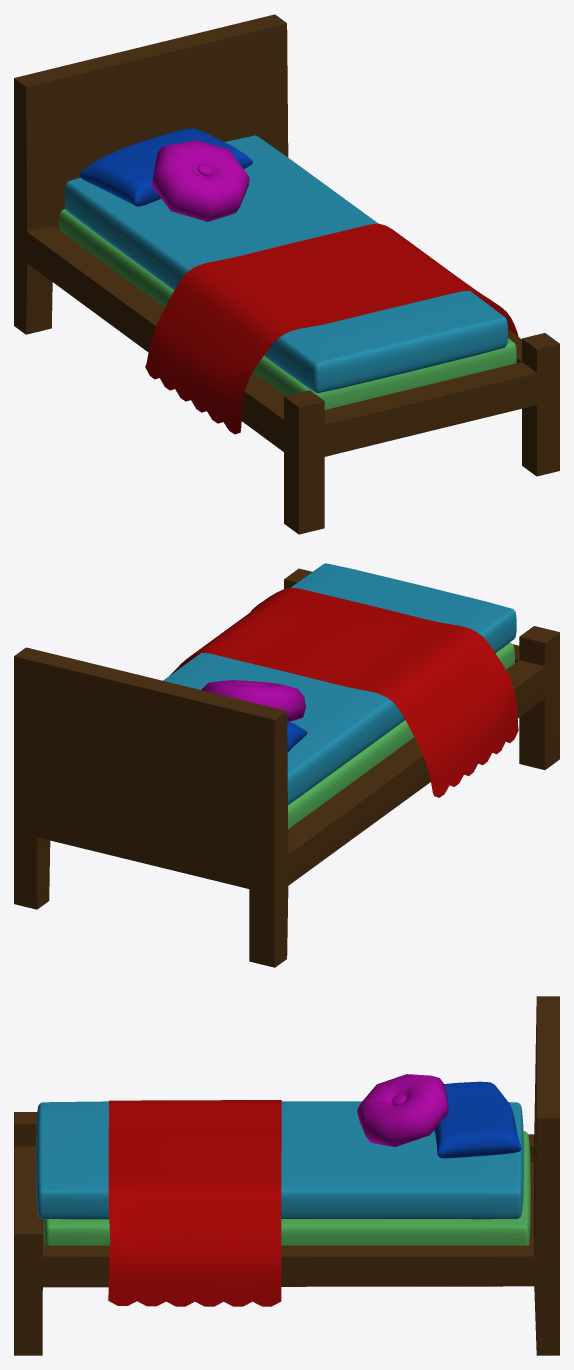
The model's file is PROP_CamaSolteiro_1.fbx.
The picture shows the model from 3 angles, top to bottom: view 1: azimuth 30°, elevation 25°; view 2: azimuth 150°, elevation 25°; view 3: azimuth 270°, elevation 25°; orthographic projection. The views are drawn at different scales.
Parts seen in each view (by area): view 1: Cama, ColchaoTopo, Lencol, ColchaoBaixo, AlmofadaRedonda, Travesseiro; view 2: Cama, Lencol, ColchaoTopo, ColchaoBaixo, AlmofadaRedonda; view 3: Lencol, ColchaoTopo, Cama, ColchaoBaixo, Travesseiro, AlmofadaRedonda.
Boxes of the visible parts, x1=… form: Cama: x1=14, y1=14, x2=559, y2=534; ColchaoTopo: x1=64, y1=135, x2=507, y2=393; Lencol: x1=145, y1=223, x2=518, y2=434; ColchaoBaixo: x1=59, y1=209, x2=516, y2=409; AlmofadaRedonda: x1=152, y1=140, x2=249, y2=221; Travesseiro: x1=78, y1=128, x2=252, y2=206; Cama: x1=14, y1=568, x2=559, y2=967; Lencol: x1=169, y1=587, x2=518, y2=797; ColchaoTopo: x1=163, y1=563, x2=516, y2=804; ColchaoBaixo: x1=288, y1=642, x2=514, y2=829; AlmofadaRedonda: x1=201, y1=680, x2=305, y2=721; Lencol: x1=108, y1=1100, x2=281, y2=1306; ColchaoTopo: x1=36, y1=1101, x2=523, y2=1219; Cama: x1=14, y1=996, x2=559, y2=1355; ColchaoBaixo: x1=43, y1=1131, x2=530, y2=1245; Travesseiro: x1=434, y1=1081, x2=521, y2=1158; AlmofadaRedonda: x1=357, y1=1074, x2=448, y2=1146.
Bounding box in the file's own units: 11.97 × 9.8 × 20.4.
